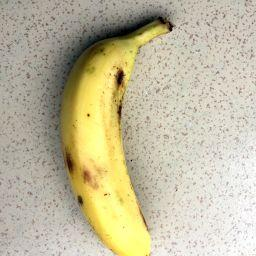banana: (57, 15, 177, 256)
